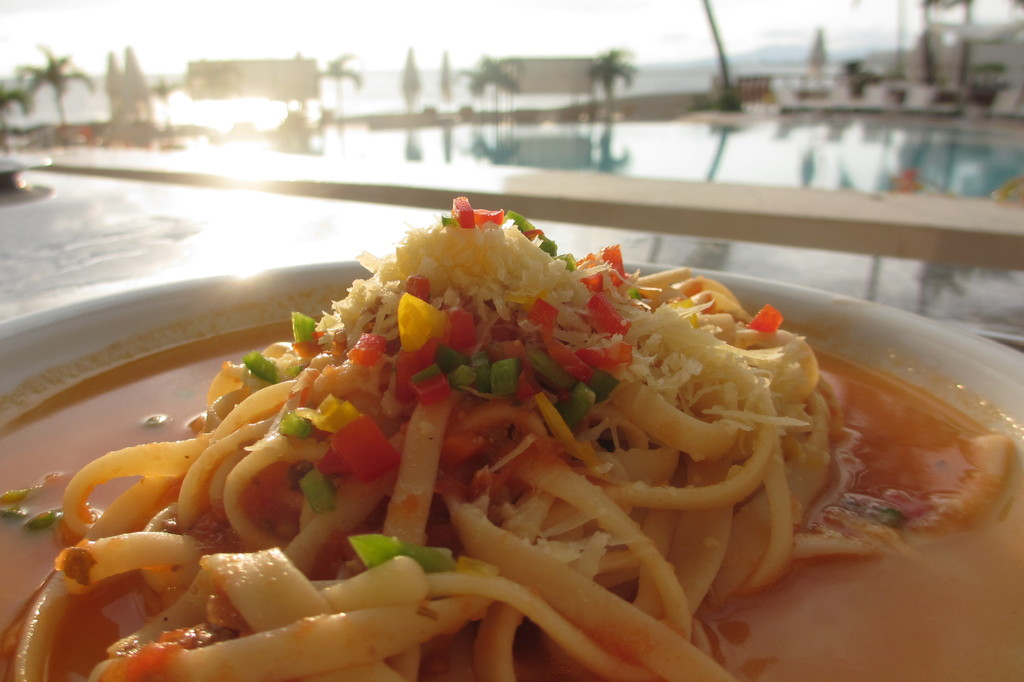pasta: (33, 178, 879, 678)
